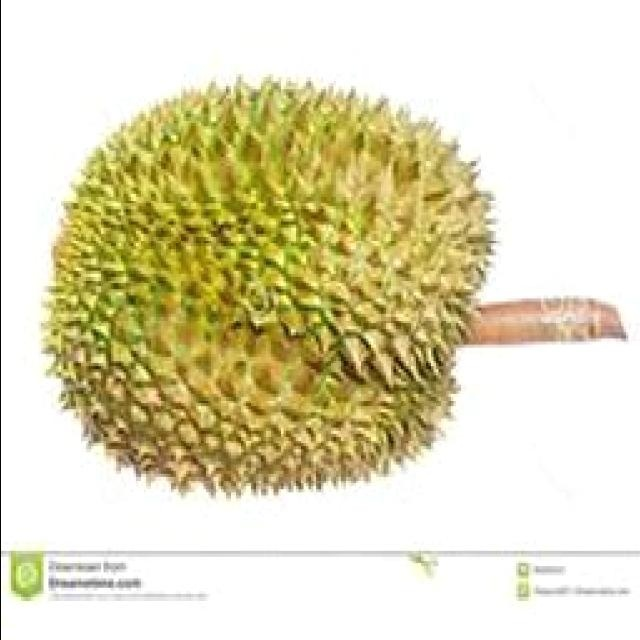agrume: (50, 89, 510, 511)
